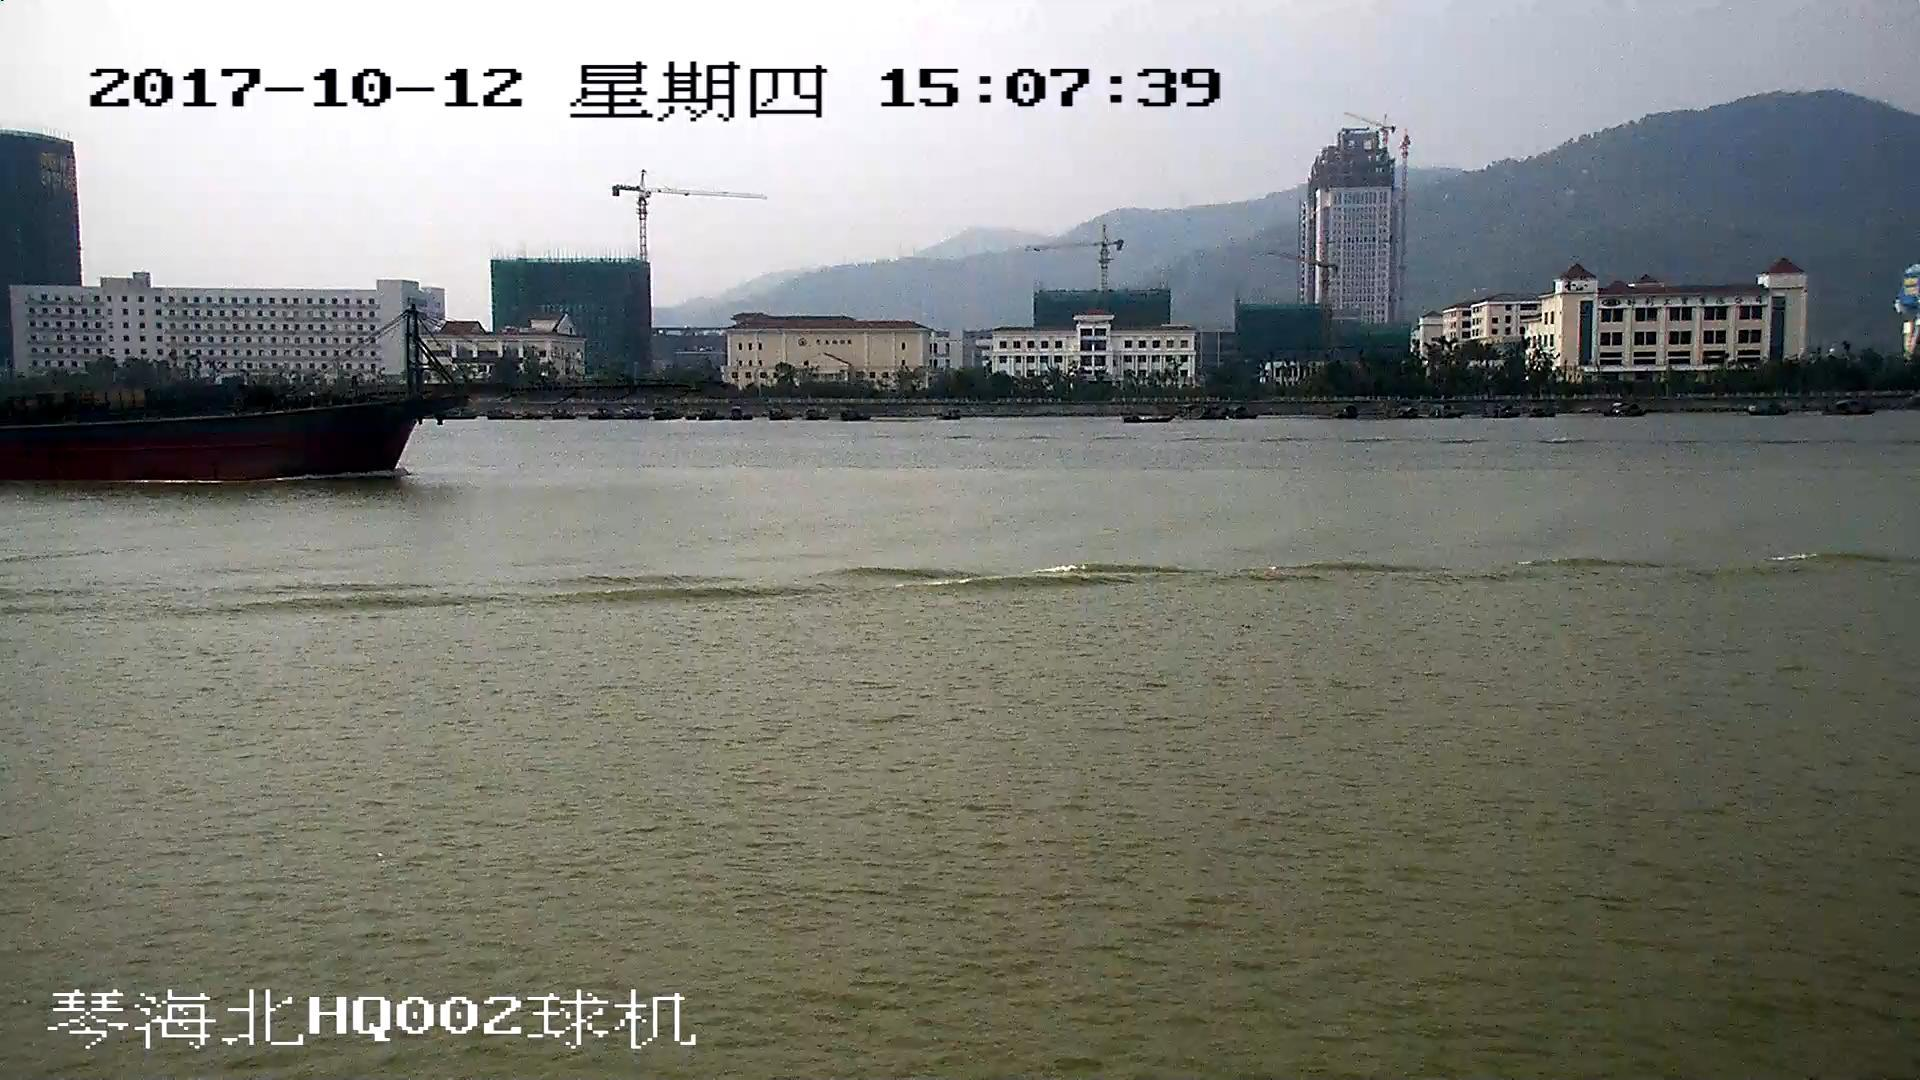Ship: (3, 298, 669, 483)
